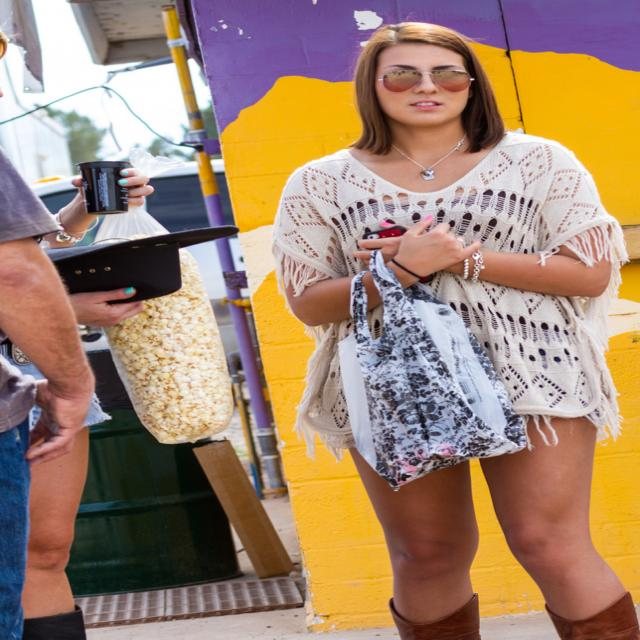Glasses: (374, 62, 490, 94)
